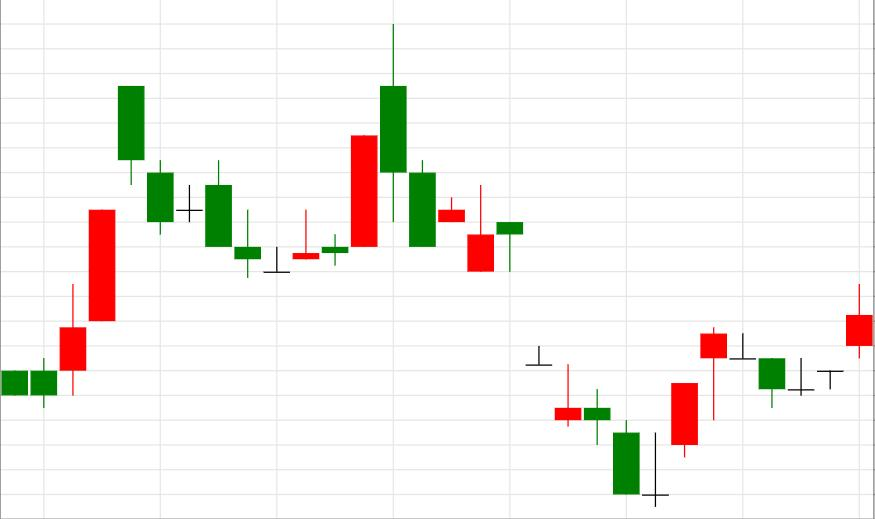morning_star_rise: (496, 222, 698, 508)
